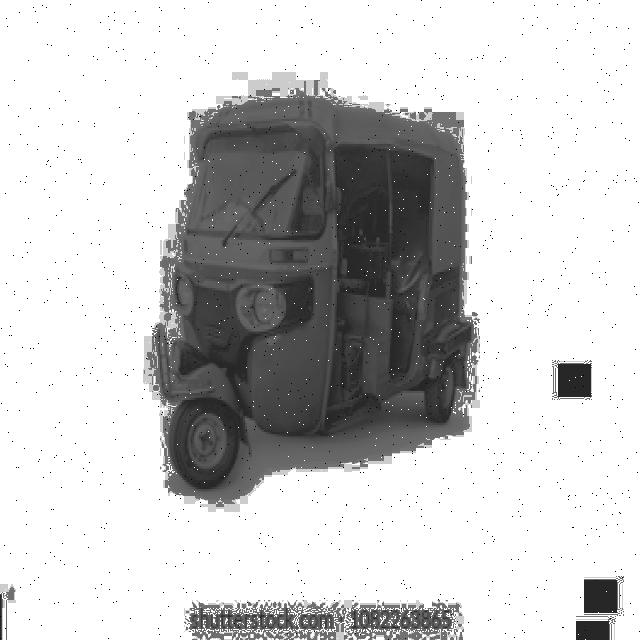Auto-Rickshaw: (153, 80, 477, 498)
